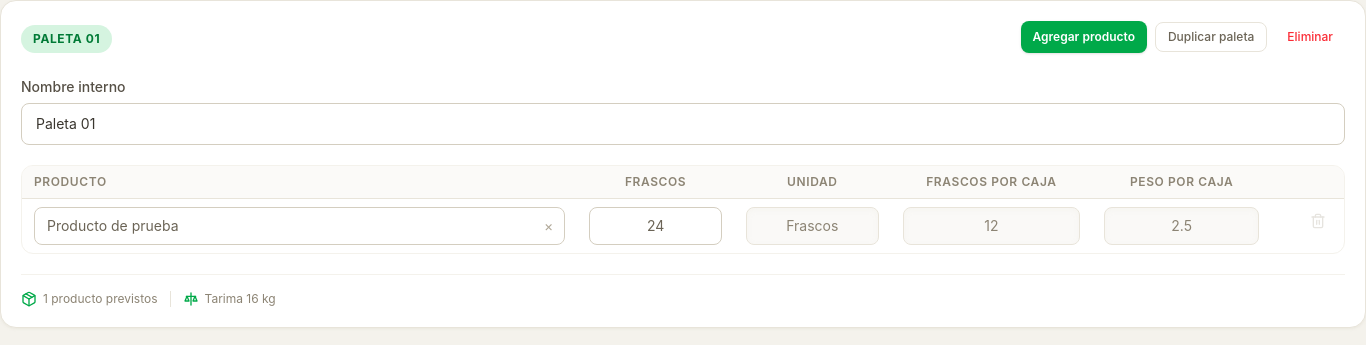
it: PalletCard — reusable product combobox › filters product options by code in the visible product field
In the dropdown named "producto": [300, 226] box [34,207,565,245], type "AM0138"
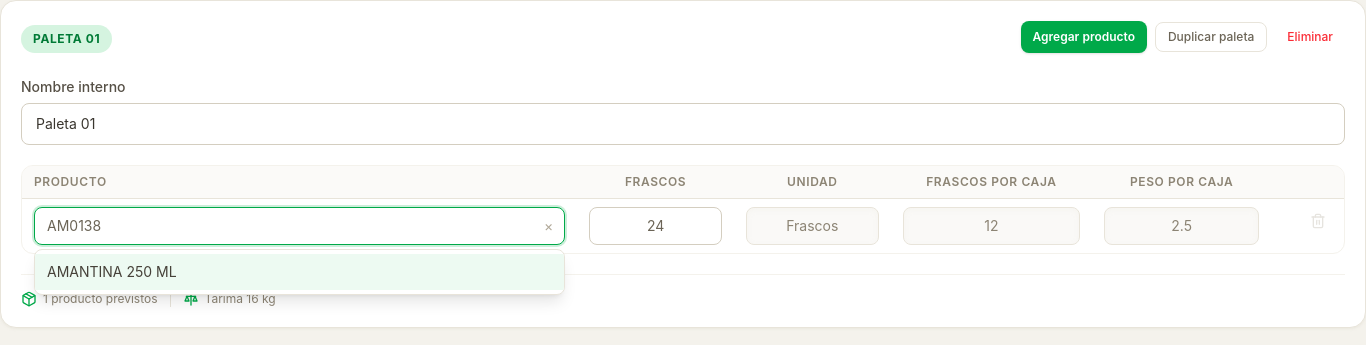
Expected: the option "AMANTINA 250 ML" is shown, [35,254,564,290]
